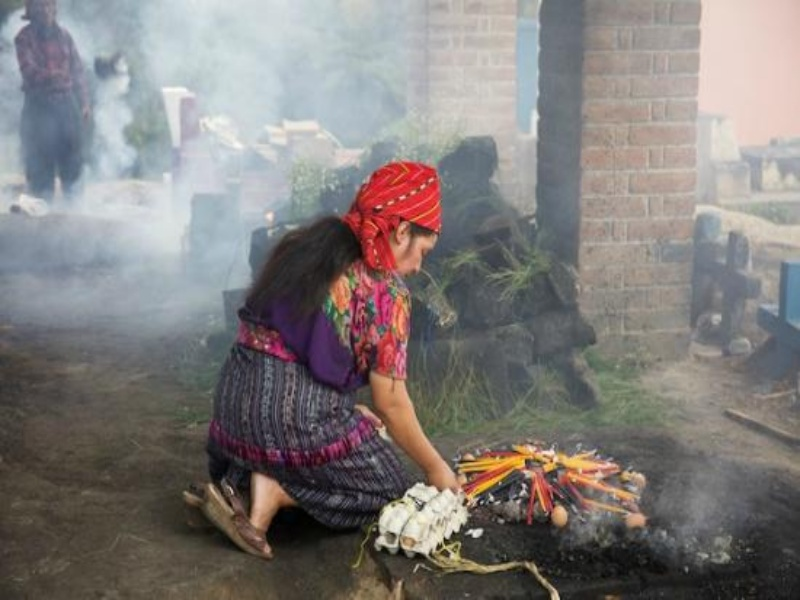smoke: (1, 1, 257, 303)
